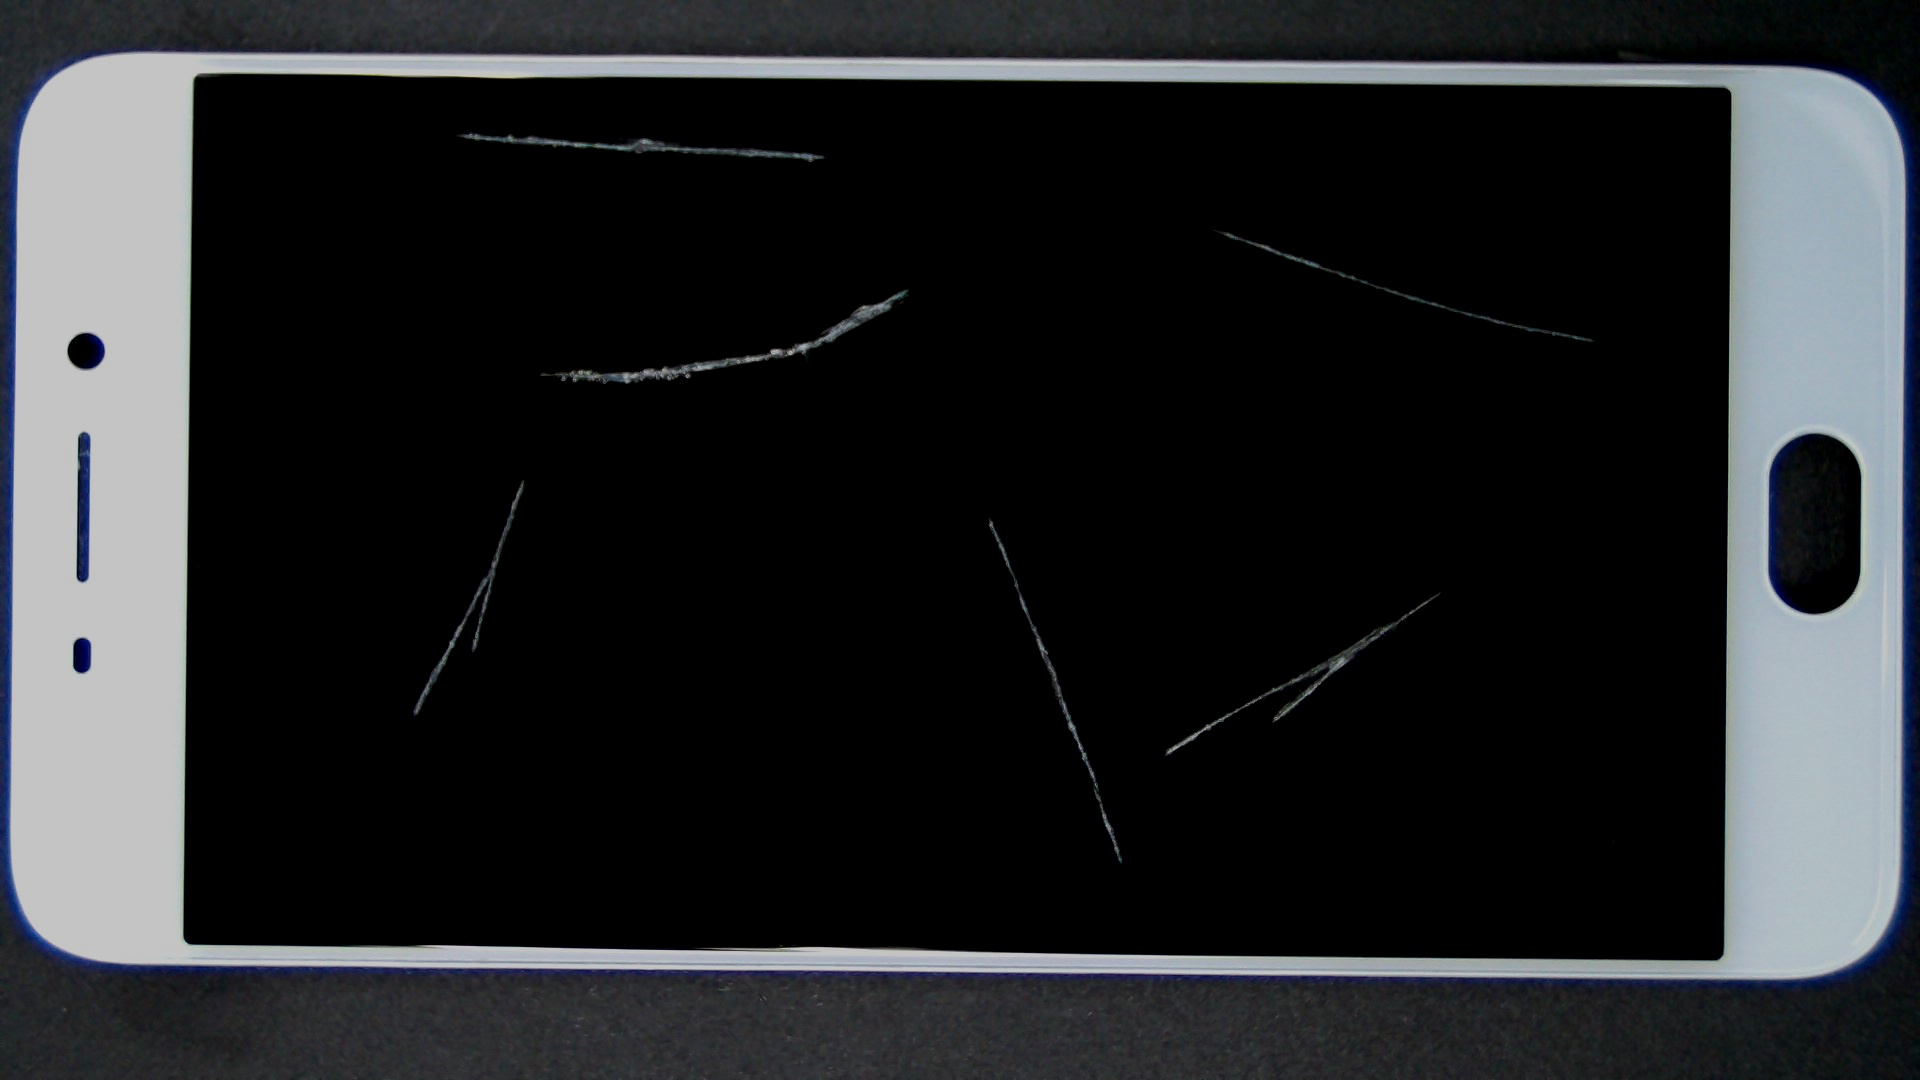oil: (720, 295, 1920, 887), (493, 257, 1480, 773), (607, 112, 1817, 340), (456, 142, 1367, 429), (262, 239, 786, 719), (225, 65, 675, 198)
